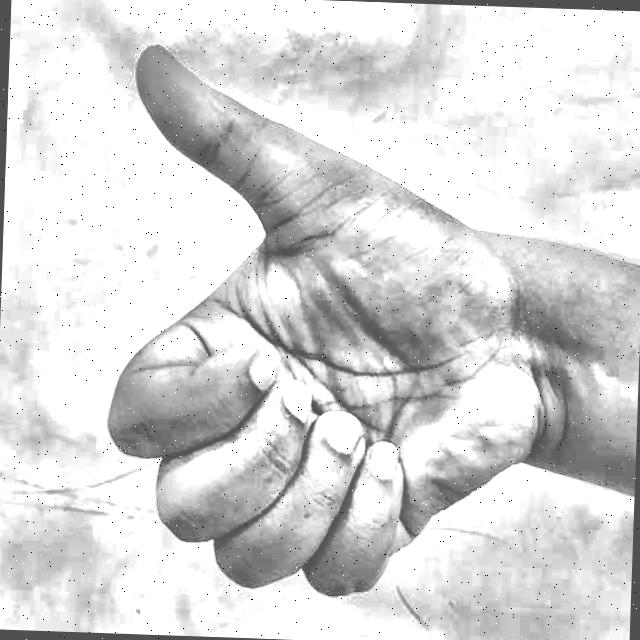Do: (78, 29, 568, 620)
